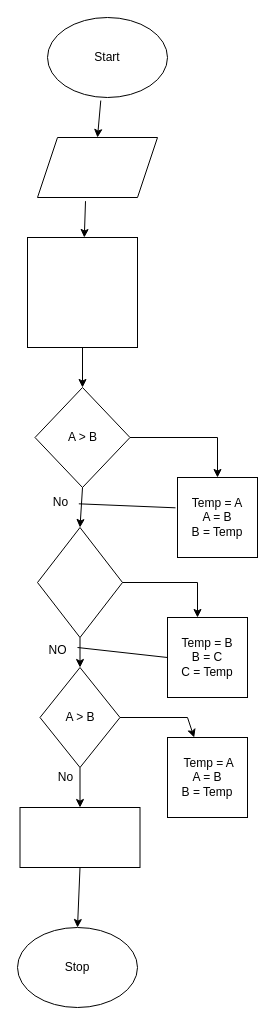
The diagram is 275 pixels wide and 1025 high, and some of its shapes have lost their labels. Here are the shapes that lost their labels. From the top down, the box of each, then its label:
(36, 136, 158, 198): Read X , Y , Z
(26, 236, 138, 348): A = X B = Y C = z
(36, 526, 122, 638): B > C
(19, 806, 140, 868): Print A, B , C
